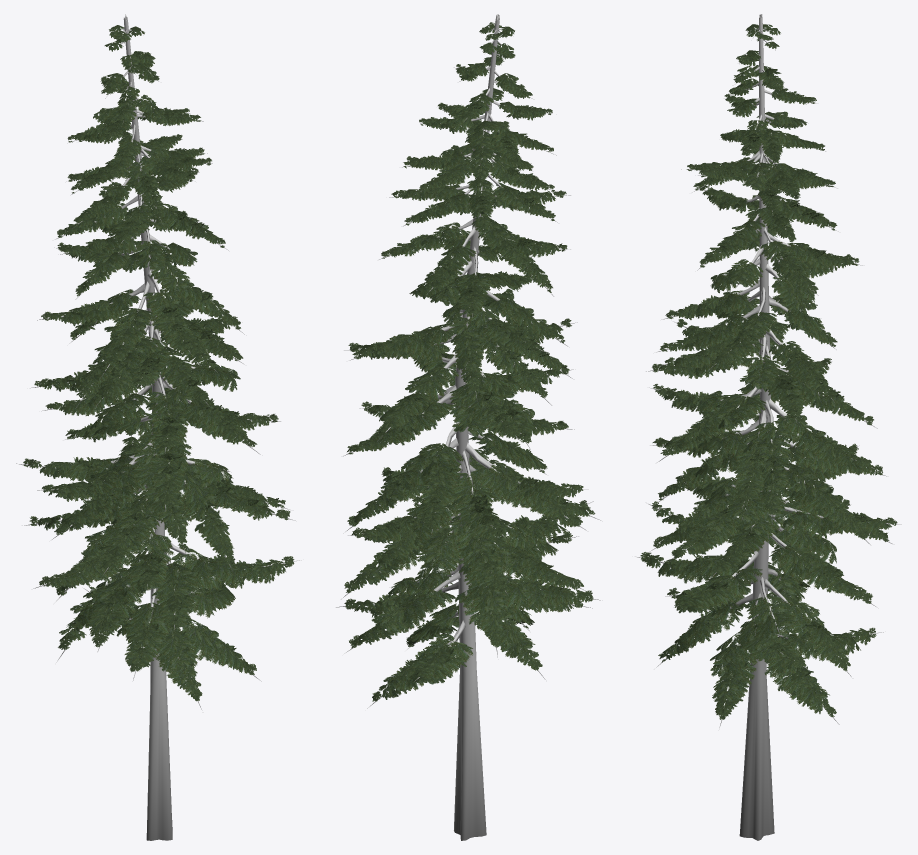
File: Hemlock_Rand_mdl.fbx
3 renders of one model, left to right at view 1: azimuth 30°, elevation 25°; view 2: azimuth 150°, elevation 25°; view 3: azimuth 270°, elevation 25°, orthographic. The views are drawn at different scales.
Visible parts, largest first — view 1: Hemlock_Rand_LOD0; view 2: Hemlock_Rand_LOD0; view 3: Hemlock_Rand_LOD0.
Part boxes in pixels (box(x1,y1,x2,y2)): Hemlock_Rand_LOD0: box(16, 14, 301, 840); Hemlock_Rand_LOD0: box(336, 14, 600, 840); Hemlock_Rand_LOD0: box(635, 14, 901, 840).
Size of the model in its own units: 522 by 1688 by 516.
